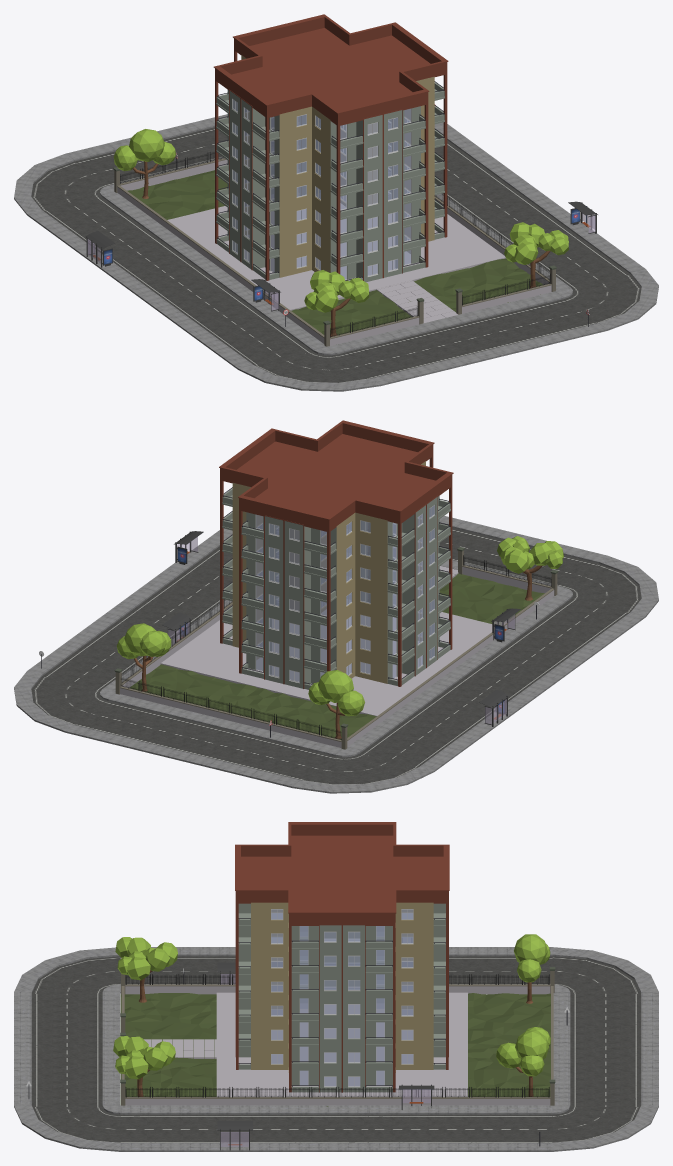
The model's file is building_2.glb.
The picture shows the model from 3 angles, top to bottom: view 1: azimuth 30°, elevation 25°; view 2: azimuth 150°, elevation 25°; view 3: azimuth 270°, elevation 25°; orthographic projection. The views are drawn at different scales.
Parts seen in each view (by area): view 1: Plane.011_0; view 2: Plane.011_0; view 3: Plane.011_0.
Boxes of the visible parts, x1,y1,x2,y2 form: Plane.011_0: (14, 14, 658, 391); Plane.011_0: (14, 420, 658, 793); Plane.011_0: (14, 822, 658, 1151).
Size of the model in its own units: 54.23 by 22.73 by 72.71.
Materials: 10 (7 with a texture image).
